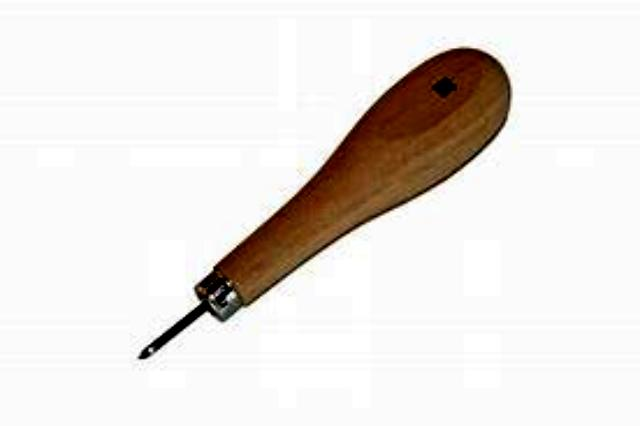ice pick: (139, 40, 521, 352)
